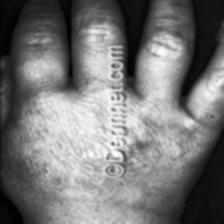Non-Cancerous Skin Condition: (62, 124, 81, 160), (82, 143, 122, 159), (124, 131, 138, 153)
